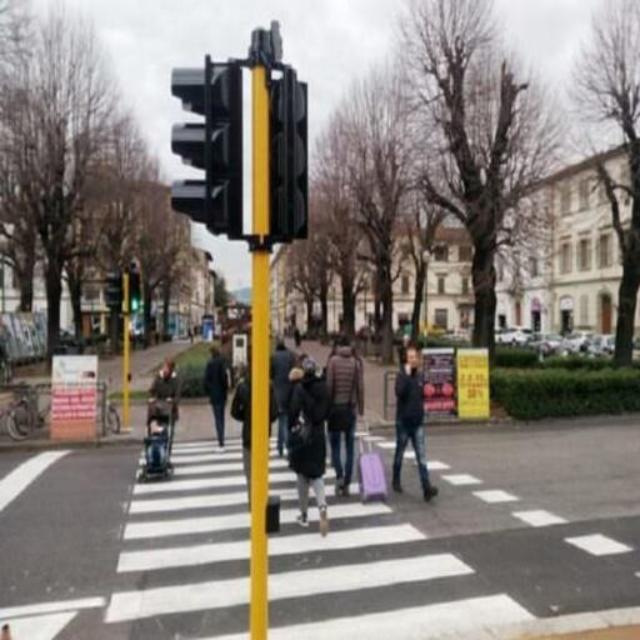sidewalk: (98, 434, 542, 640)
